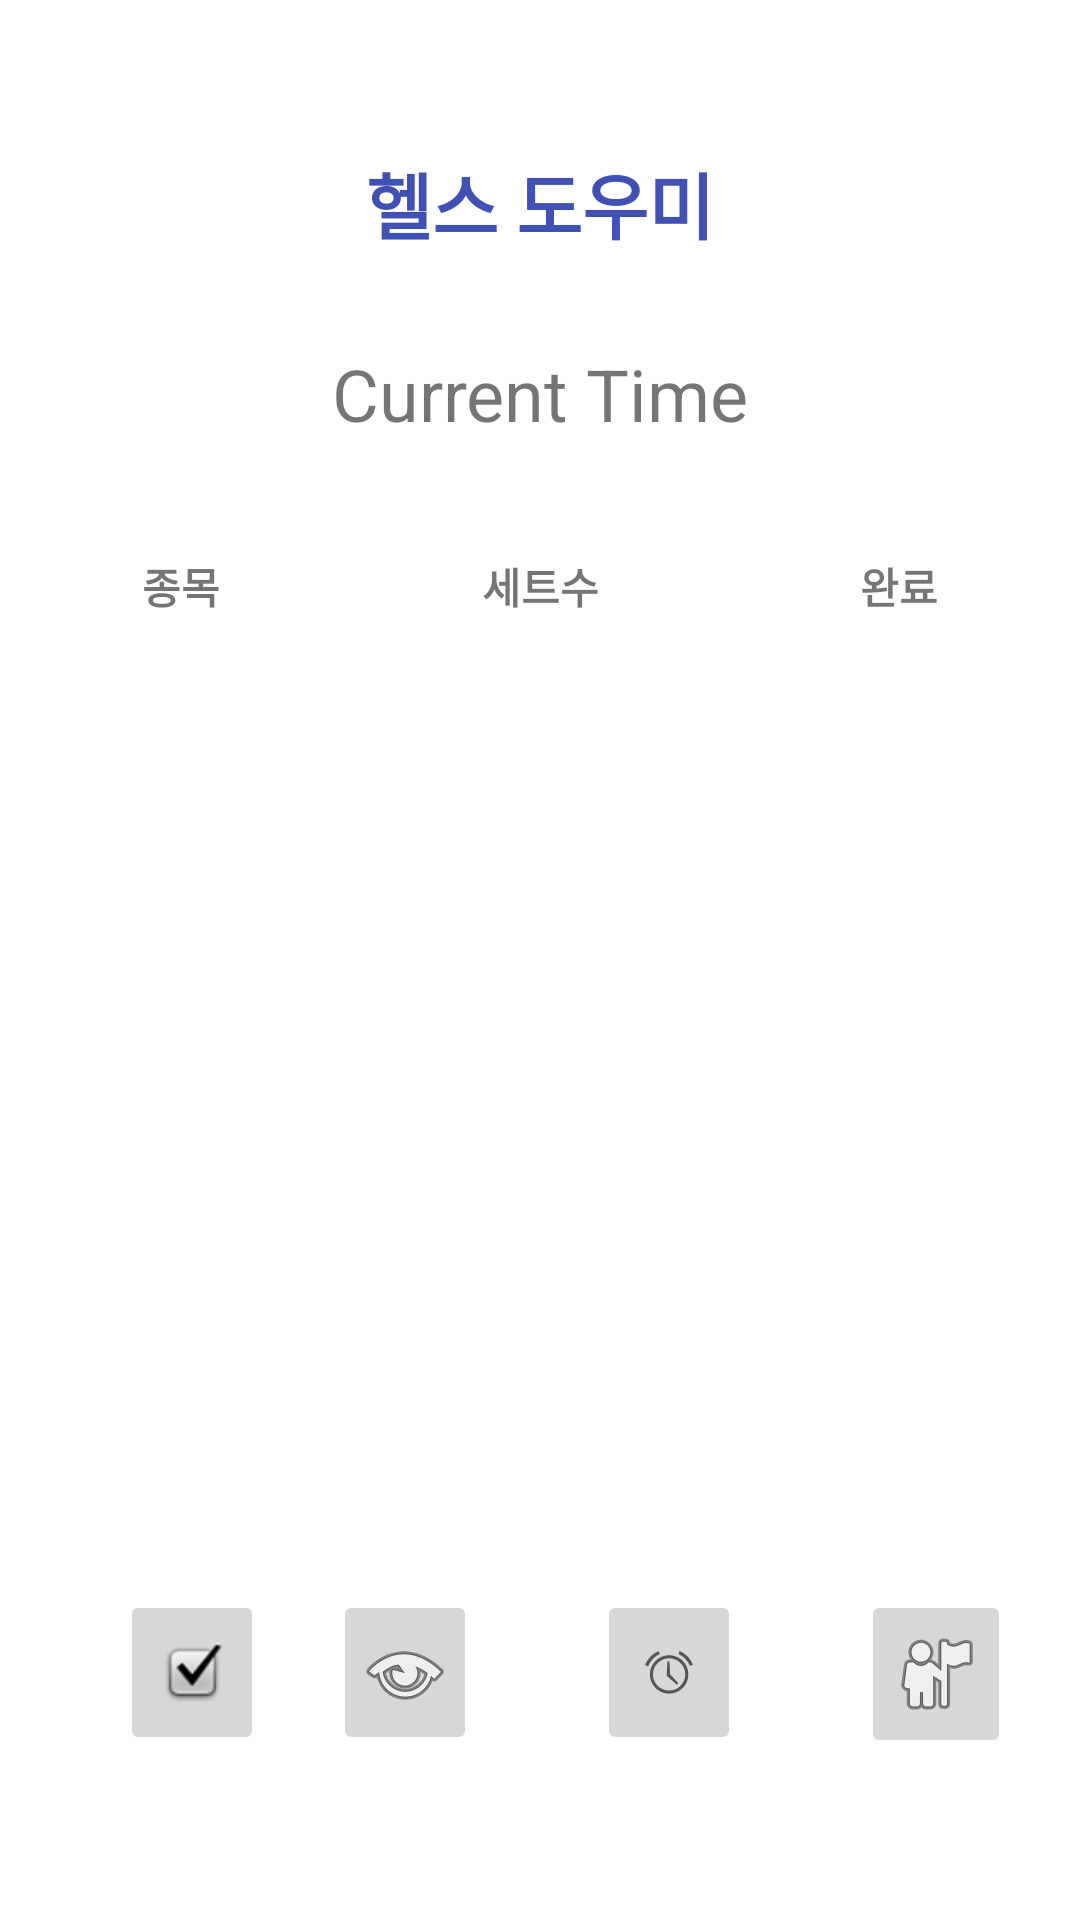

Icon bounding boxes for this 1080×1920 phone screenshot, format (x1, y1, x2, y2):
달성률: (873, 1608, 999, 1740)
알람: (609, 1608, 729, 1737)
